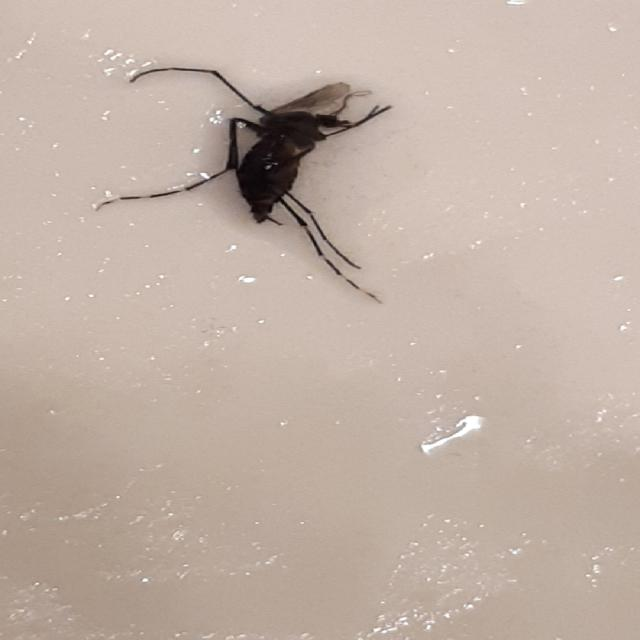albopictus: (90, 41, 394, 304)
